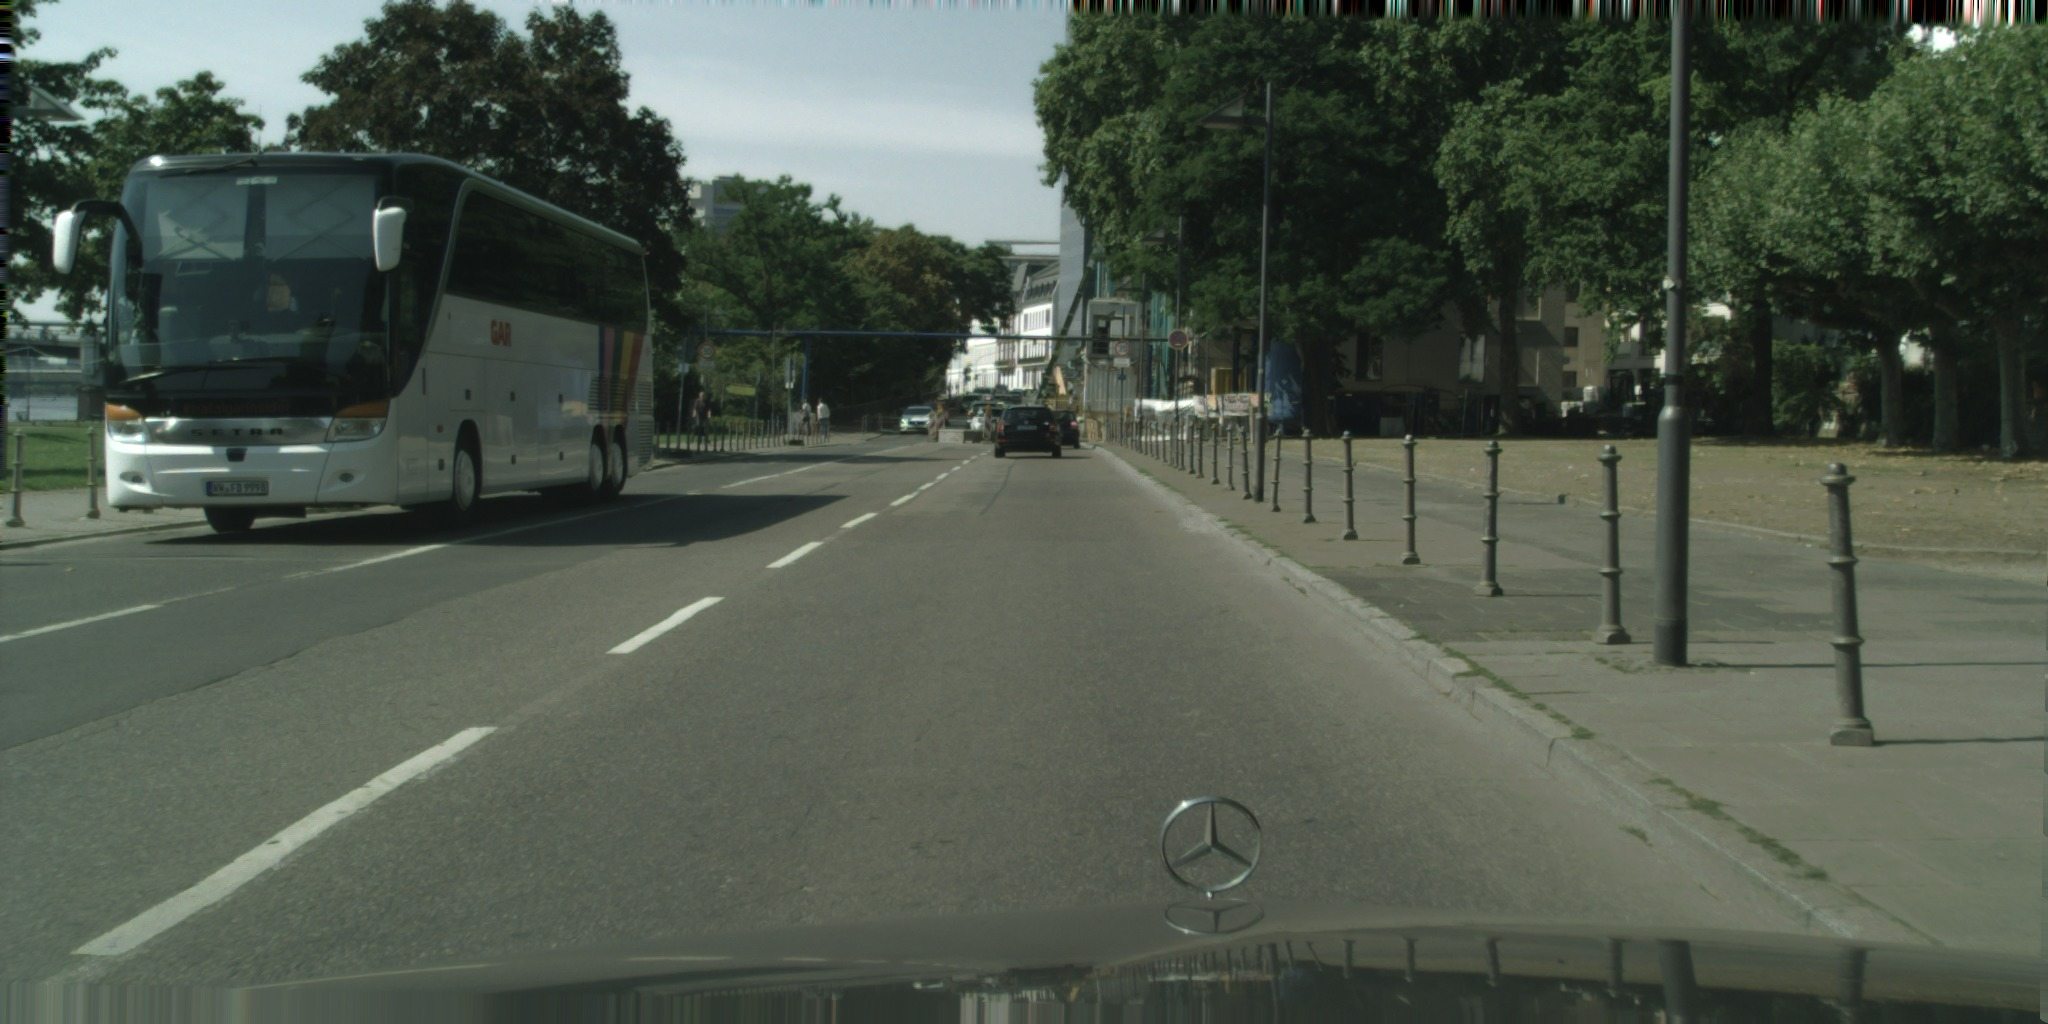bus: (52, 152, 655, 535)
car: (1031, 229, 1105, 418), (994, 403, 1062, 459), (1045, 409, 1080, 450)
person: (692, 390, 712, 429), (817, 396, 831, 431), (801, 398, 812, 434)
